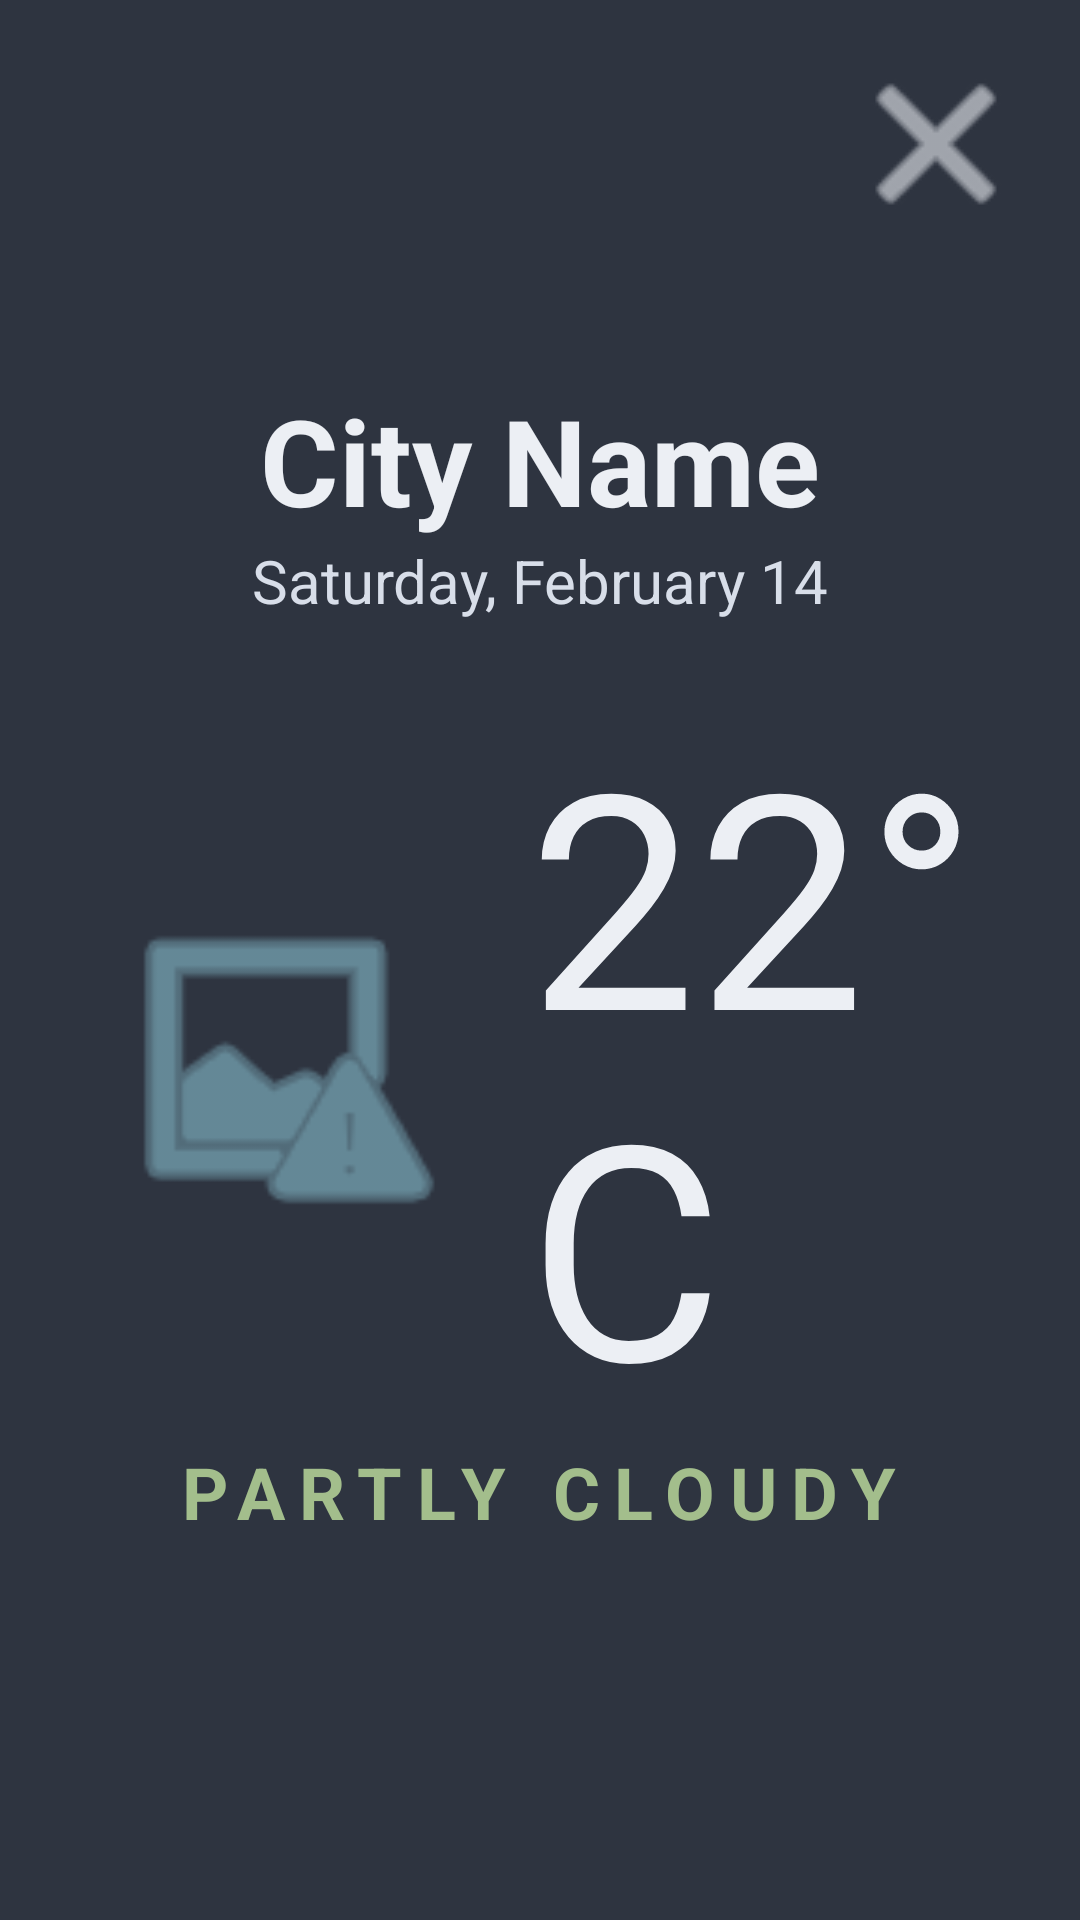

Screen size 1080*1920. Icon name, then its center in pixels as point (x, y):
Close: point (936, 144)
